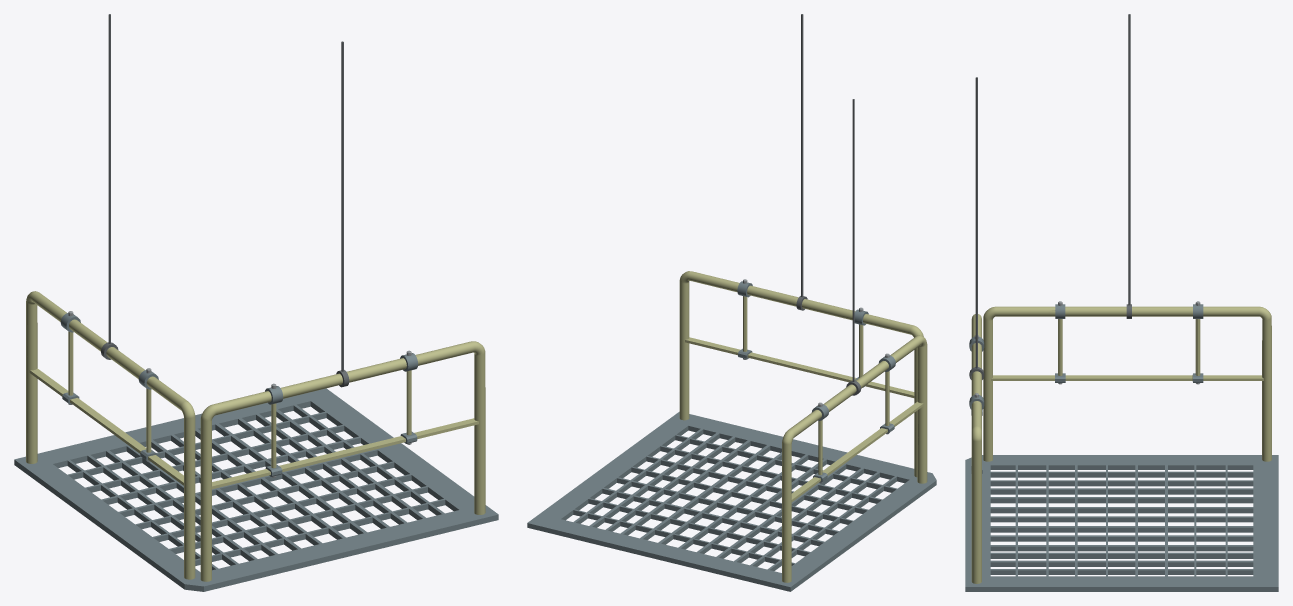
File: Floating_Walkway_Corner.fbx
The picture shows the model from 3 angles, left to right: view 1: azimuth 30°, elevation 25°; view 2: azimuth 150°, elevation 25°; view 3: azimuth 270°, elevation 25°; orthographic projection. The views are drawn at different scales.
Visible parts, largest first — view 1: pCylinder46, pCylinder57, pCylinder58; view 2: pCylinder46, pCylinder57, pCylinder58; view 3: pCylinder46, pCylinder58, pCylinder57.
Part boxes in pixels (x1,y1,x2,y2): pCylinder46: [14, 291, 498, 591]; pCylinder57: [341, 41, 343, 371]; pCylinder58: [108, 14, 110, 343]; pCylinder46: [527, 271, 936, 591]; pCylinder57: [801, 14, 803, 297]; pCylinder58: [852, 99, 854, 381]; pCylinder46: [965, 301, 1278, 591]; pCylinder58: [1128, 14, 1130, 305]; pCylinder57: [975, 77, 977, 368].
Bounding box in the file's own units: 1.31 × 2.08 × 1.31.
